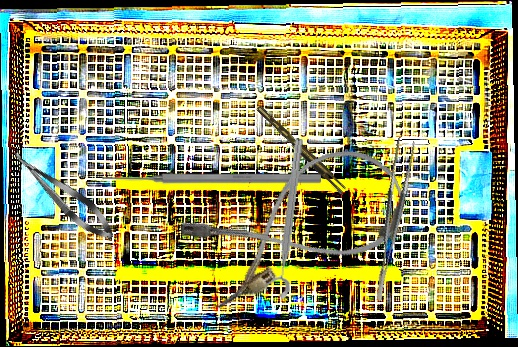Cannula: (175, 132, 418, 315)
Fixation Ring: (262, 136, 309, 300)
Micro Scissor: (5, 141, 121, 248)
Pusher: (101, 171, 321, 185)
Tissue Forceps: (348, 136, 432, 302), (256, 101, 348, 198)
